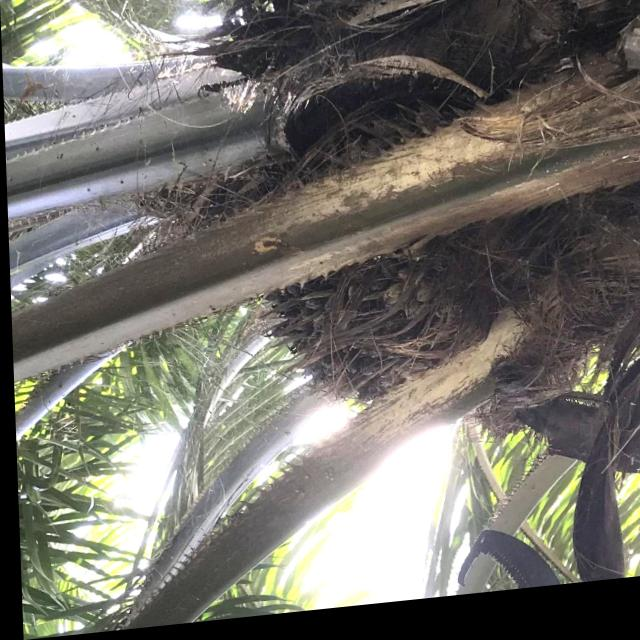almost: (249, 219, 539, 436)
